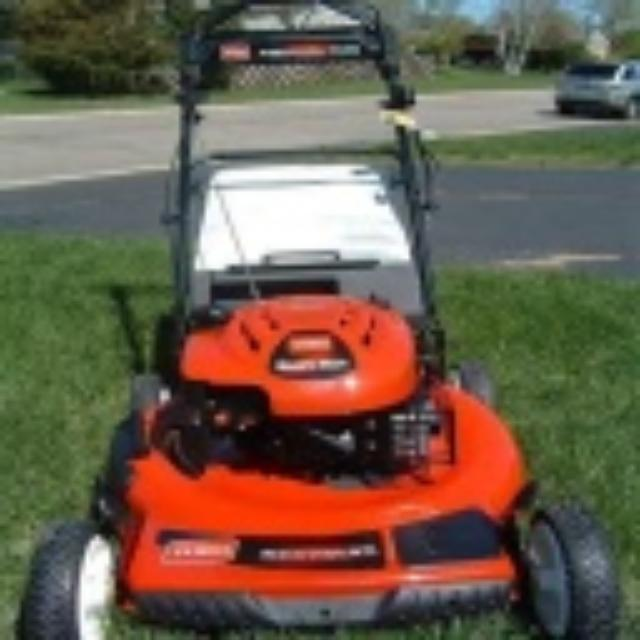Rotary-Mower: (10, 1, 620, 636)
